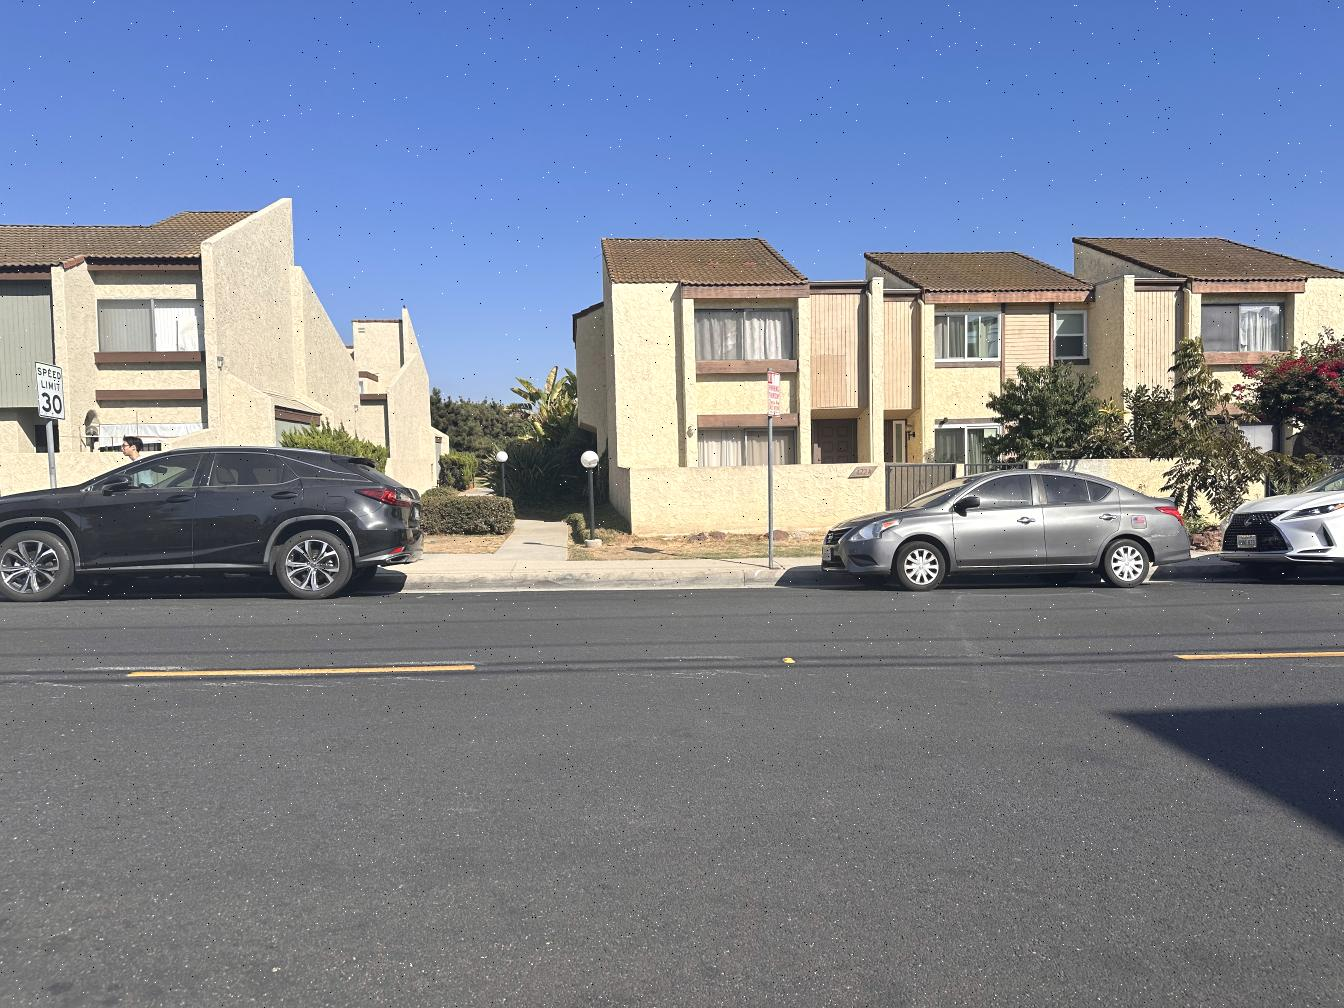curbs-laRr: (426, 572, 802, 593)
